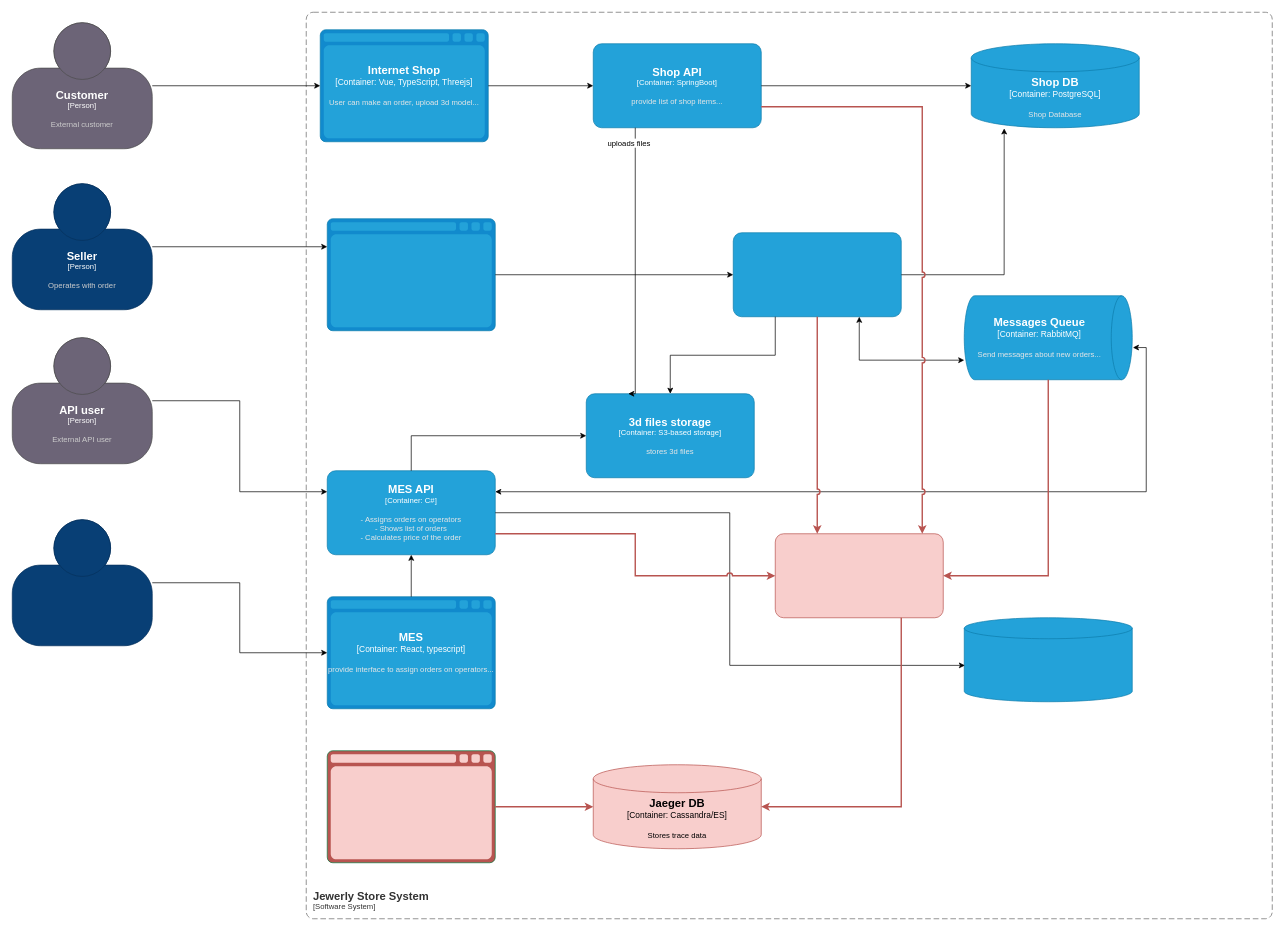
This 1285x931 diagram has some shape labels left out. The shapes that lost their labels are listed below. From the top down, each one's centre as x and y in pixels, then its label:
(x=411, y=274): CRM [Container: Vue, Typescript] Web CRM
(x=817, y=274): CRM API [Container: SpringBoot] CRM Backend
(x=82, y=582): Operator [Person] Takes order in work, manufactures jewerly
(x=859, y=575): Jaeger Collector [Container: Go] Collects tracing spans
(x=1048, y=659): MES db [Container: PostgreSQL] MES Database
(x=411, y=806): Jaeger UI [Container: Go] Visualize traces
